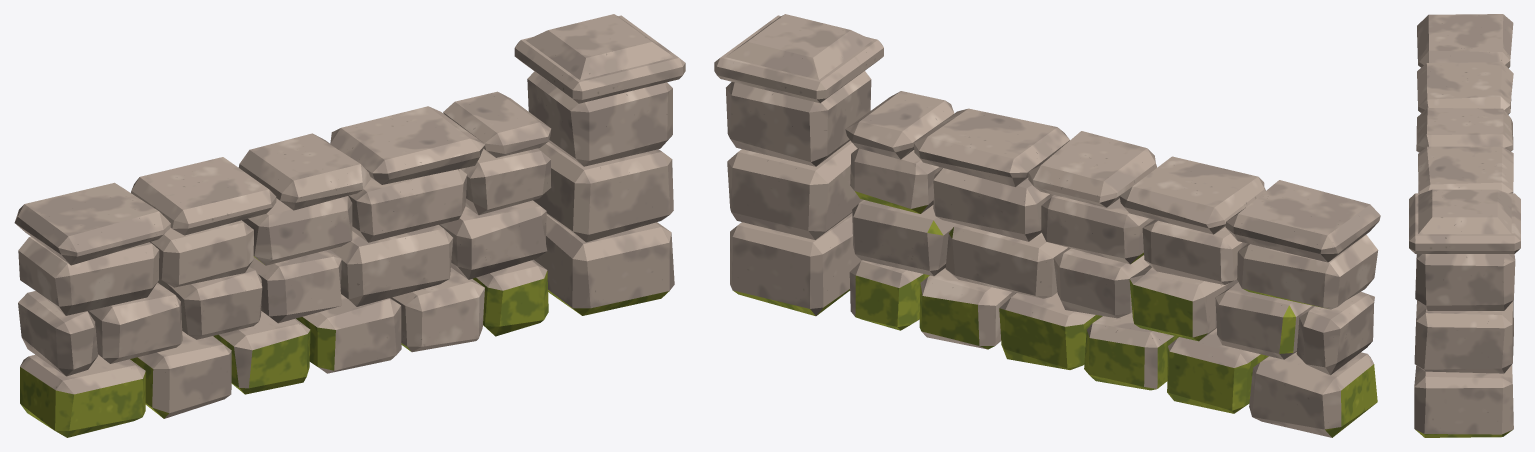
The model's file is low_stone_wall.glb.
3 renders of one model, left to right at view 1: azimuth 30°, elevation 25°; view 2: azimuth 150°, elevation 25°; view 3: azimuth 270°, elevation 25°, orthographic. The views are drawn at different scales.
Visible parts, largest first — view 1: low_stone_wall_wall_section, low_stone_wall_end_pillar, low_stone_wall_cap_stones; view 2: low_stone_wall_wall_section, low_stone_wall_end_pillar, low_stone_wall_cap_stones; view 3: low_stone_wall_end_pillar, low_stone_wall_cap_stones.
Boxes of the visible parts, left/top/right/bottom form: low_stone_wall_wall_section: left=18, top=148, right=551, bottom=437; low_stone_wall_end_pillar: left=514, top=14, right=685, bottom=315; low_stone_wall_cap_stones: left=14, top=91, right=551, bottom=265; low_stone_wall_wall_section: left=849, top=148, right=1378, bottom=437; low_stone_wall_end_pillar: left=714, top=14, right=883, bottom=316; low_stone_wall_cap_stones: left=845, top=91, right=1380, bottom=262; low_stone_wall_end_pillar: left=1409, top=189, right=1520, bottom=437; low_stone_wall_cap_stones: left=1416, top=14, right=1513, bottom=193.
Size of what is drawn, in the model's own units: 3.02 by 1.2 by 0.55.
Materials: 2 (2 with a texture image).
